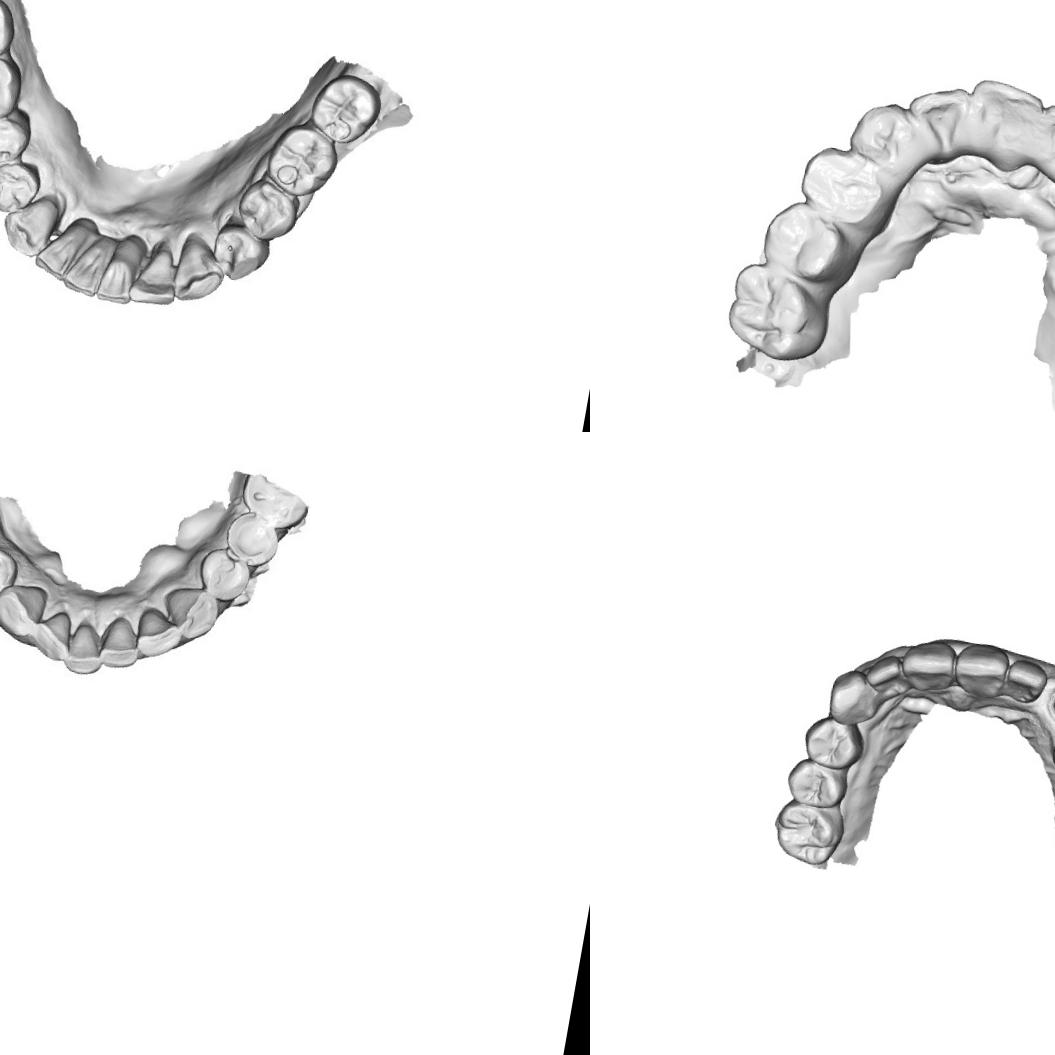canine: (842, 93, 923, 180), (0, 189, 59, 259), (158, 578, 222, 642), (824, 664, 884, 730), (172, 232, 225, 302), (0, 579, 46, 632)
crown: (1043, 674, 1055, 727)
incisor: (958, 73, 1050, 162), (900, 77, 976, 168), (896, 634, 961, 696), (30, 216, 90, 279), (950, 638, 1010, 701), (95, 232, 145, 306), (134, 236, 184, 308), (62, 232, 114, 300), (27, 604, 80, 666), (60, 620, 112, 681), (132, 607, 185, 664), (96, 615, 144, 672), (1001, 655, 1051, 707), (861, 650, 912, 700), (1029, 98, 1055, 174)
molar: (720, 258, 832, 368), (770, 791, 848, 870), (309, 71, 382, 145), (269, 126, 332, 192), (0, 51, 24, 124)
premolar: (754, 192, 854, 287), (792, 138, 886, 233), (234, 176, 309, 247), (216, 506, 284, 572), (799, 710, 868, 774), (782, 753, 852, 812), (191, 543, 256, 606), (208, 221, 272, 280), (0, 158, 42, 215), (0, 109, 30, 166), (0, 543, 18, 604)
